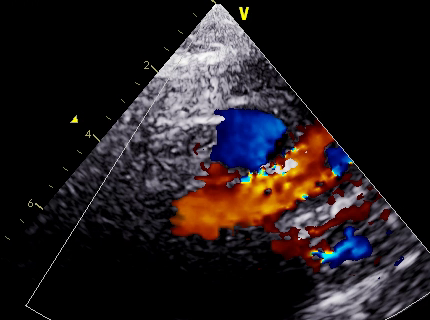AR: (206, 166, 319, 231)
